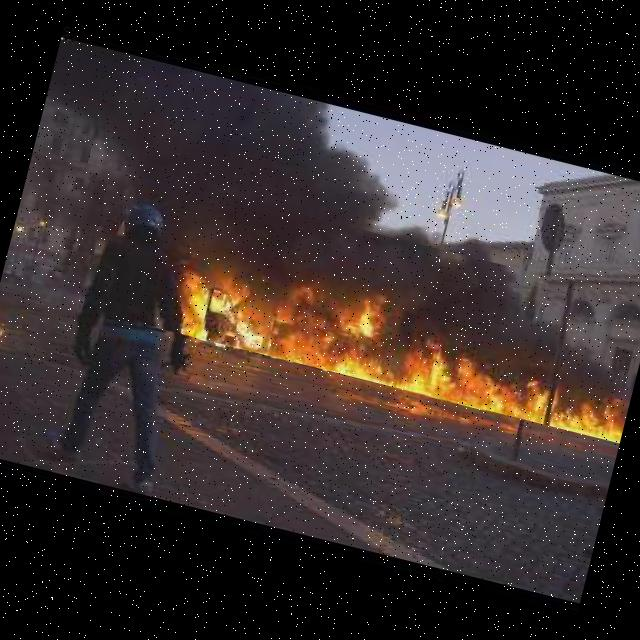fire: (145, 184, 640, 443)
